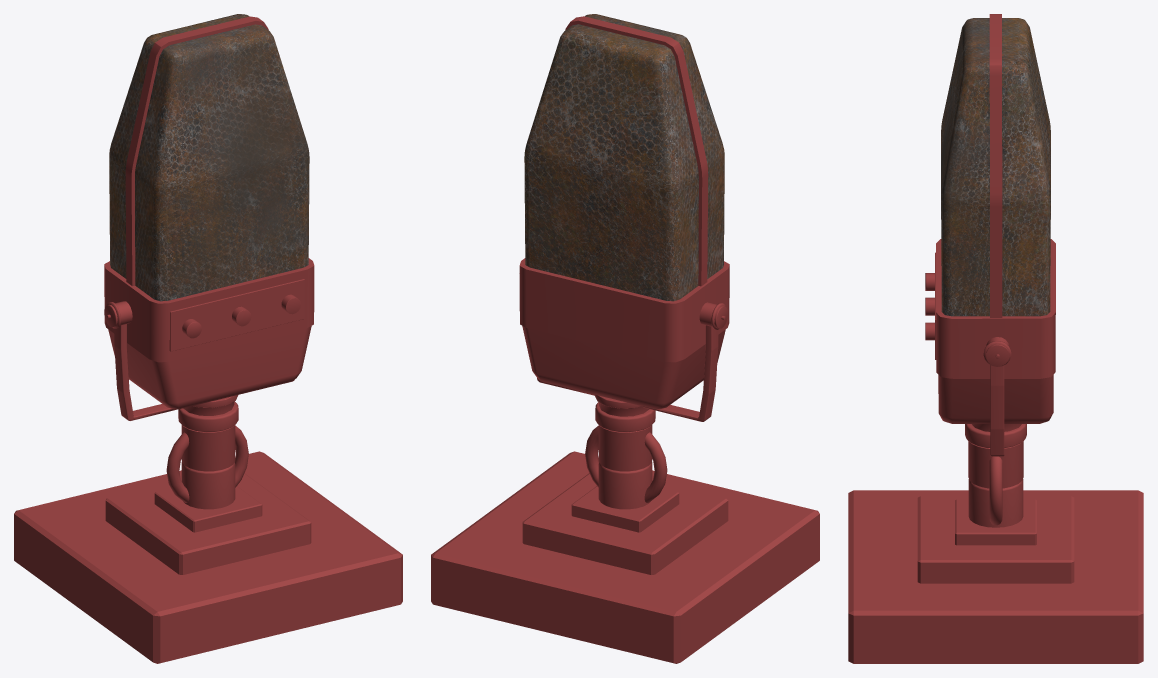
File: microPhone.fbx
3 renders of one model, left to right at view 1: azimuth 30°, elevation 25°; view 2: azimuth 150°, elevation 25°; view 3: azimuth 270°, elevation 25°, orthographic. The views are drawn at different scales.
Parts seen in each view (by area): view 1: pCube14; view 2: pCube14; view 3: pCube14.
Boxes of the visible parts, <box> form: pCube14: <box>14,14,402,663</box>; pCube14: <box>431,14,819,663</box>; pCube14: <box>848,14,1143,663</box>.
Bounding box in the file's own units: 15.14 × 32.09 × 15.14.
